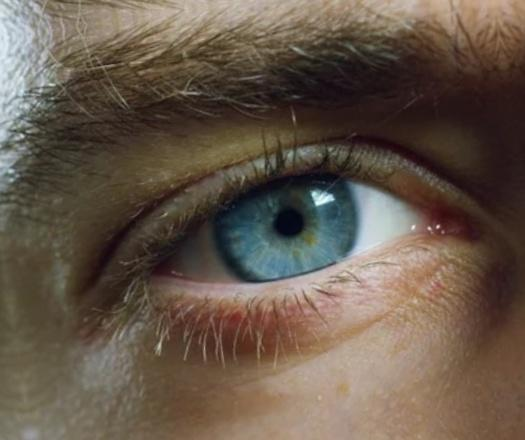eye: (213, 174, 360, 278)
